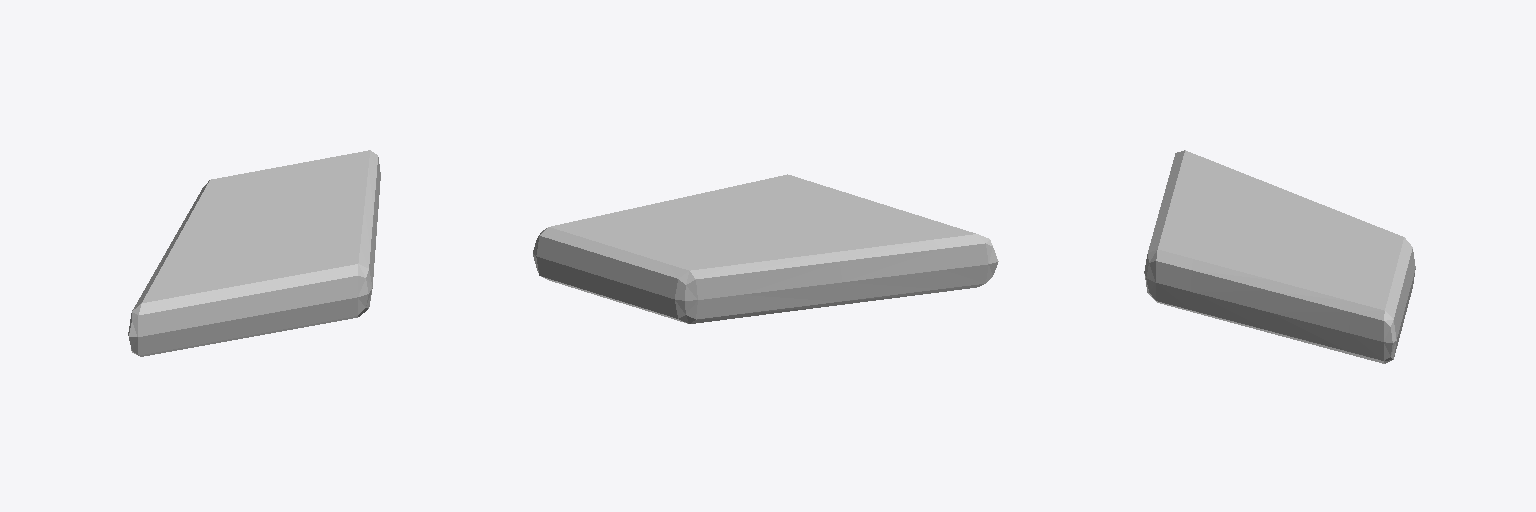
3 renders of one model, left to right at view 1: azimuth 30°, elevation 25°; view 2: azimuth 150°, elevation 25°; view 3: azimuth 270°, elevation 25°, orthographic.
Parts seen in each view (by area): view 1: polySurface1_bettingField_topGrp; view 2: polySurface1_bettingField_topGrp; view 3: polySurface1_bettingField_topGrp.
Boxes of the visible parts, <box> form: polySurface1_bettingField_topGrp: <box>128,150,380,356</box>; polySurface1_bettingField_topGrp: <box>533,174,998,323</box>; polySurface1_bettingField_topGrp: <box>1144,150,1415,363</box>.
Bounding box in the file's own units: 3.01 × 0.43 × 1.98.